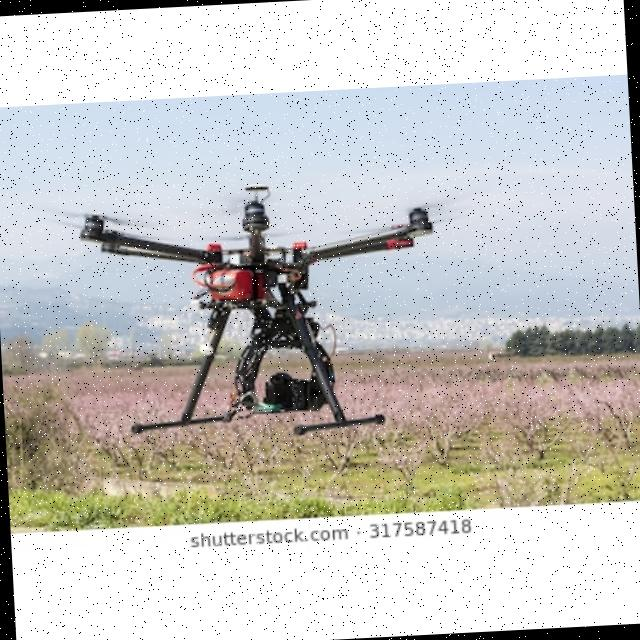Drones: (76, 172, 443, 446)
